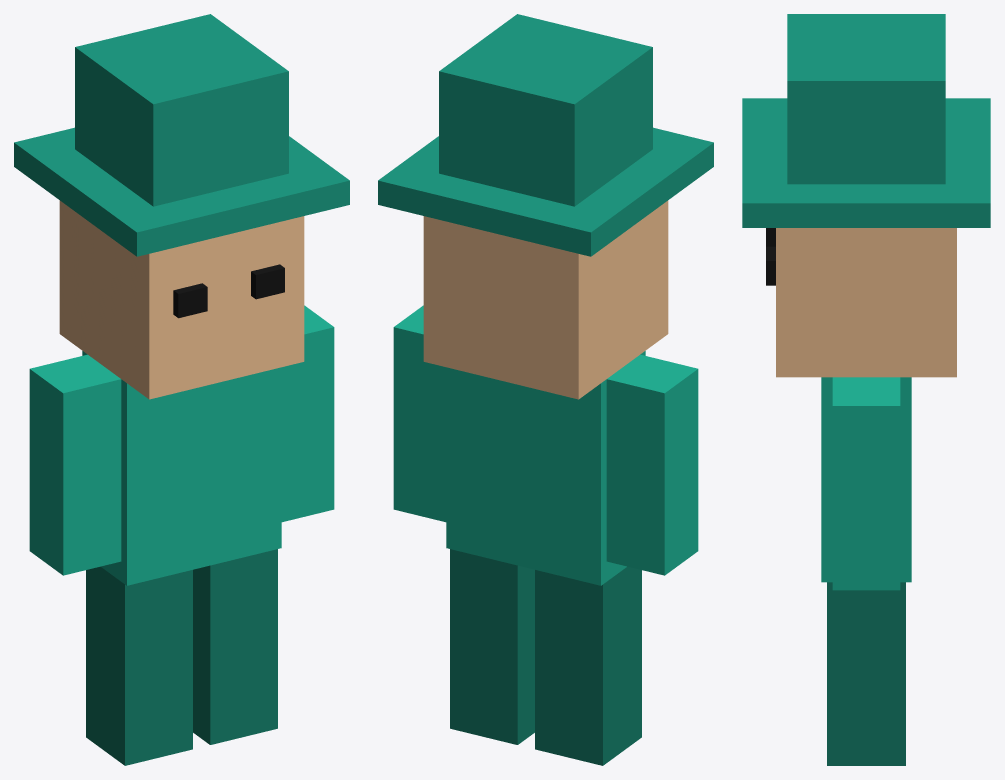
Rendered from npc_input.obj.
3 views of the same model, side by side, from view 1: azimuth 30°, elevation 25°; view 2: azimuth 150°, elevation 25°; view 3: azimuth 270°, elevation 25° (orthographic).
Size of the model in its own units: 1.4 by 3.32 by 1.1.
